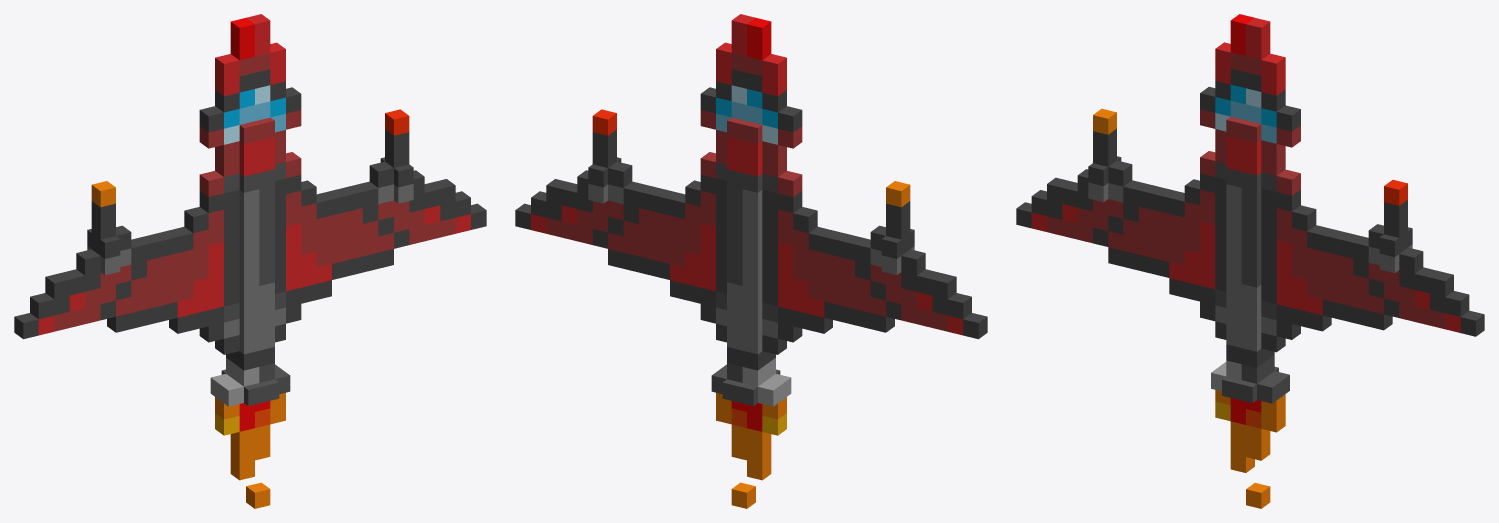
3 views of the same model, side by side, from view 1: azimuth 30°, elevation 25°; view 2: azimuth 150°, elevation 25°; view 3: azimuth 330°, elevation 25° (orthographic).
Parts seen in each view (by area): view 1: generated; view 2: generated; view 3: generated.
Part boxes in pixels (x1,y1,x2,y2): generated: (14,14,486,508); generated: (515,14,987,508); generated: (1016,14,1484,508).
Size of the model in its own units: 30 by 30 by 3.
